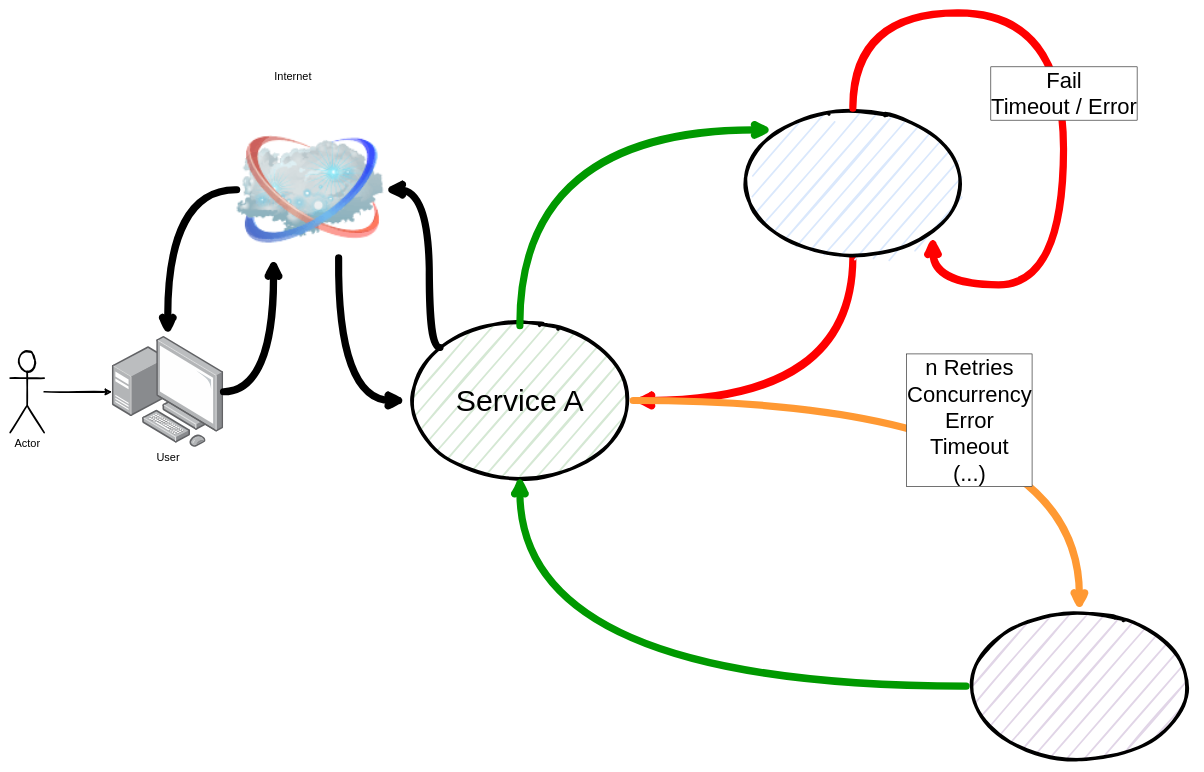
Some shapes in this 1204 by 772 pixel diagram are drawn without their labels. Each missing label, with the centre of its shape:
"Service B (Failing)" goes at pixel 853 182.
"Service C (Available)" goes at pixel 1079 685.
